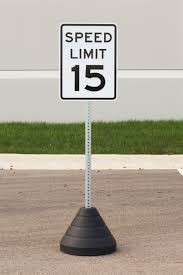speedLimit15: (58, 21, 117, 103)
